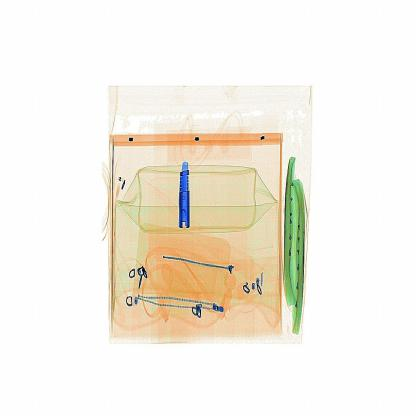pliers: (170, 155, 204, 236)
